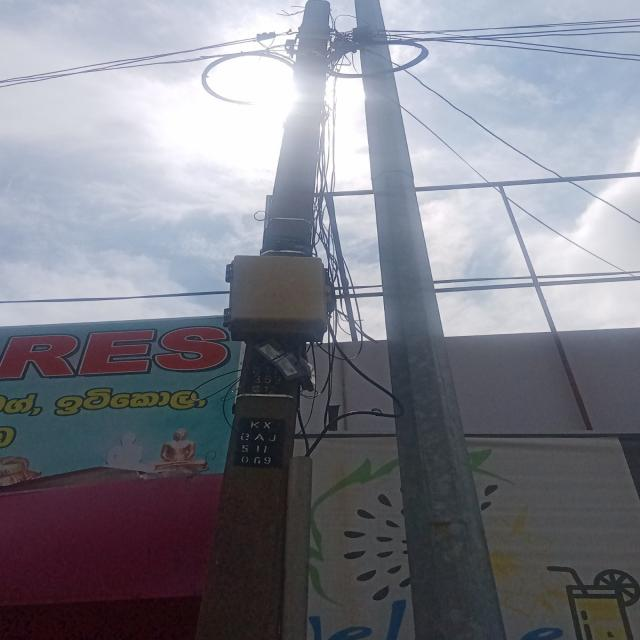light_pole: (352, 0, 517, 640), (188, 0, 336, 640)
